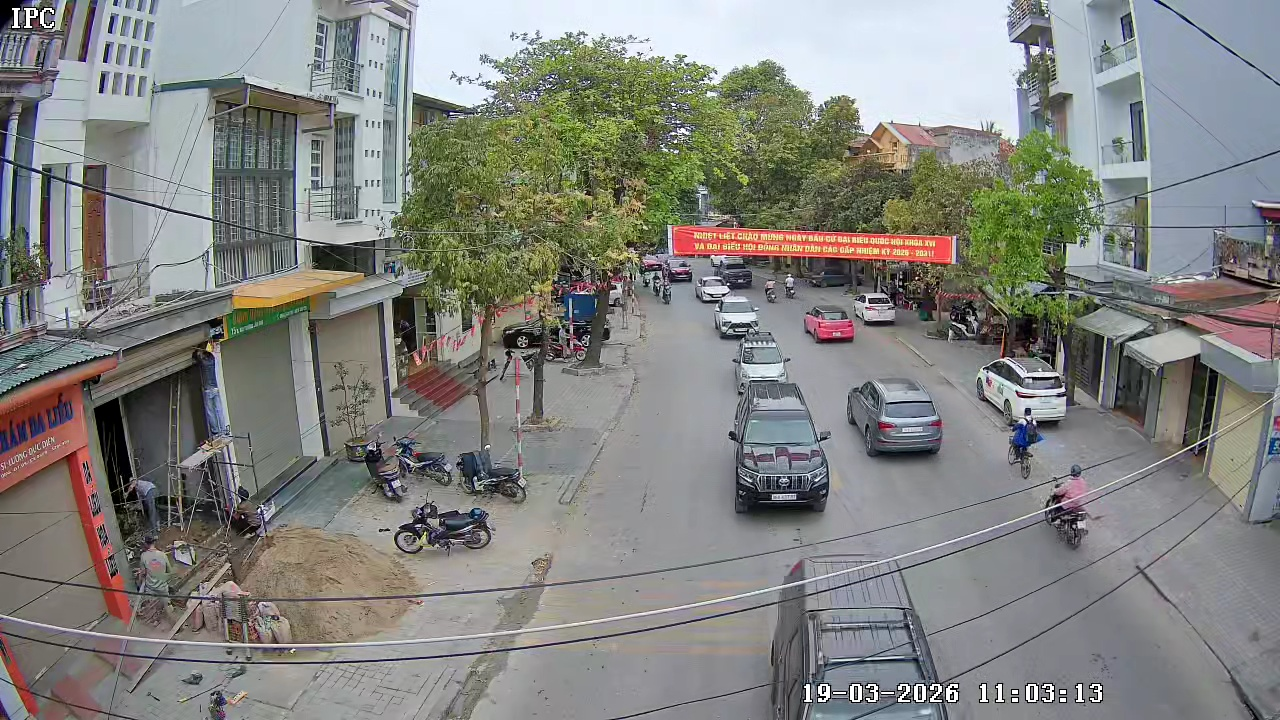bike: (1007, 407, 1045, 480)
car: (728, 403, 832, 515), (847, 377, 944, 458), (975, 354, 1068, 425), (732, 330, 793, 385), (803, 302, 856, 342), (713, 296, 761, 338), (856, 293, 897, 327), (693, 275, 728, 304)
motorbike: (393, 493, 496, 556), (456, 439, 530, 503), (1042, 461, 1091, 550), (636, 309, 649, 339), (657, 277, 671, 304)
